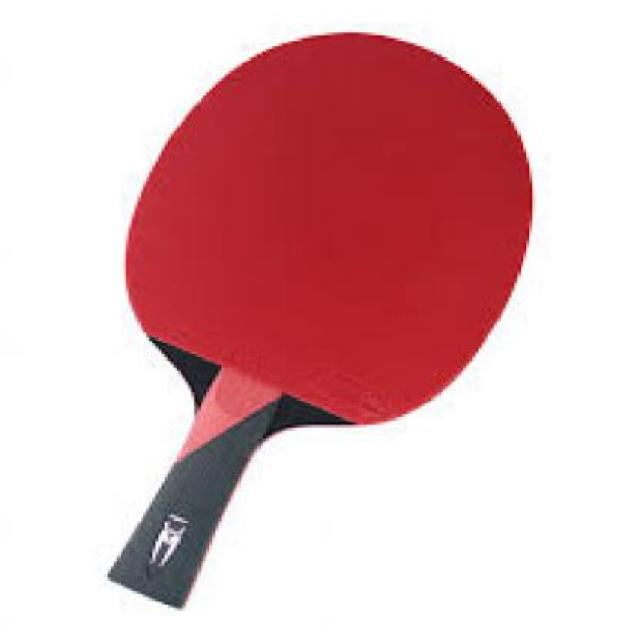table_tennis_racket: (112, 30, 530, 428)
